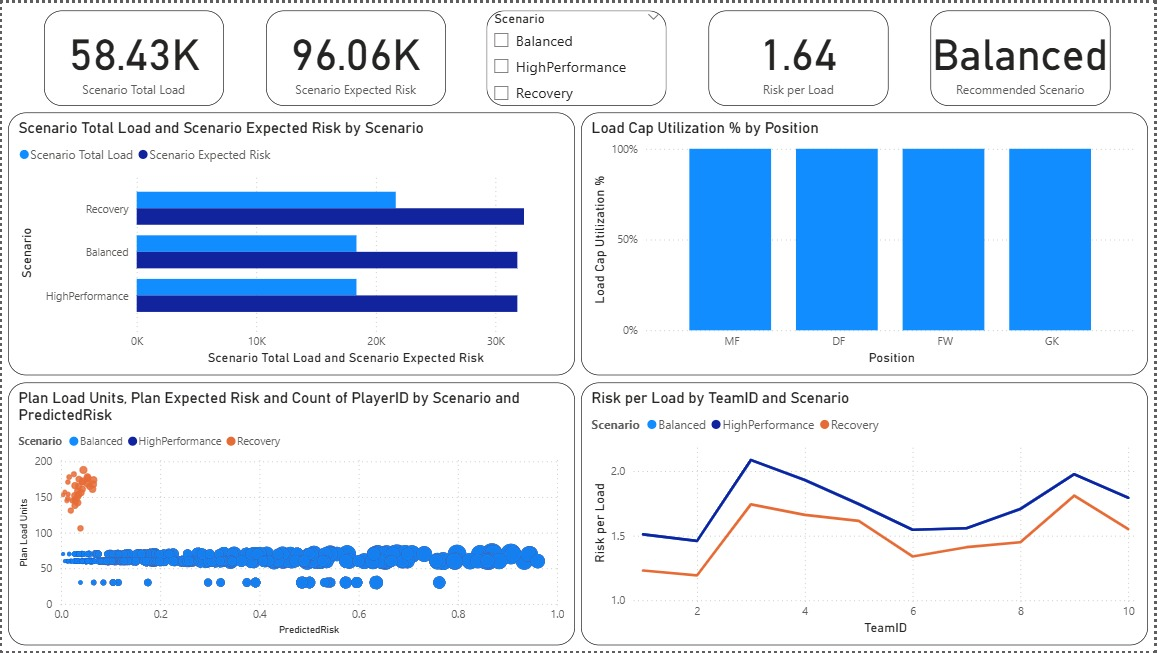

Layout of this report page (visuals, bound fields, positions):
{"tool":"powerbi","page":{"name":"Training Optimization Scenarios","canvas":[1280,720],"ordinal":1},"visuals":[{"type":"card","fields":{"Values":["KPIs.Scenario Total Load"]},"box":[47,8,200,106],"z":0},{"type":"card","fields":{"Values":["KPIs.Scenario Expected Risk"]},"box":[294,8,200,106],"z":1},{"type":"card","fields":{"Values":["KPIs.Risk per Load"]},"box":[785,8,200,106],"z":2},{"type":"card","fields":{"Values":["KPIs.Recommended Scenario"]},"box":[1032,8,200,106],"z":3},{"type":"slicer","fields":{"Values":["KPIs.Scenario"]},"box":[539,8,200,106],"z":4},{"type":"clusteredBarChart","fields":{"Category":["Scenario.Scenario"],"Y":["KPIs.Scenario Total Load","KPIs.Scenario Expected Risk"]},"box":[6,122,630,292],"z":5},{"type":"scatterChart","fields":{"X":["Risk.PredictedRisk"],"Y":["KPIs.Plan Load Units"],"Size":["KPIs.Plan Expected Risk"],"Series":["Scenario.Scenario"]},"box":[6,421,630,292],"z":6},{"type":"hundredPercentStackedColumnChart","fields":{"Category":["Players.Position"],"Y":["KPIs.Load Cap Utilization %"]},"box":[644,122,630,292],"z":7},{"type":"lineChart","fields":{"Category":["Players.TeamID"],"Series":["Scenario.Scenario"],"Y":["KPIs.Risk per Load"]},"box":[644,421,630,292],"z":8}]}

Visuals, with their boxes in screenshot pixels (x1, y1, x2, y2), scaled from the page's 1280x720 canvas onto the 1158x653 screenshot:
card - KPIs.Scenario Total Load: [43, 7, 223, 103]
card - KPIs.Scenario Expected Risk: [266, 7, 447, 103]
card - KPIs.Risk per Load: [710, 7, 891, 103]
card - KPIs.Recommended Scenario: [934, 7, 1115, 103]
slicer - KPIs.Scenario: [488, 7, 669, 103]
clusteredBarChart - Scenario.Scenario x KPIs.Scenario Total Load: [5, 111, 575, 375]
scatterChart - Risk.PredictedRisk x KPIs.Plan Load Units: [5, 382, 575, 647]
hundredPercentStackedColumnChart - Players.Position x KPIs.Load Cap Utilization %: [583, 111, 1153, 375]
lineChart - Players.TeamID x Scenario.Scenario: [583, 382, 1153, 647]
